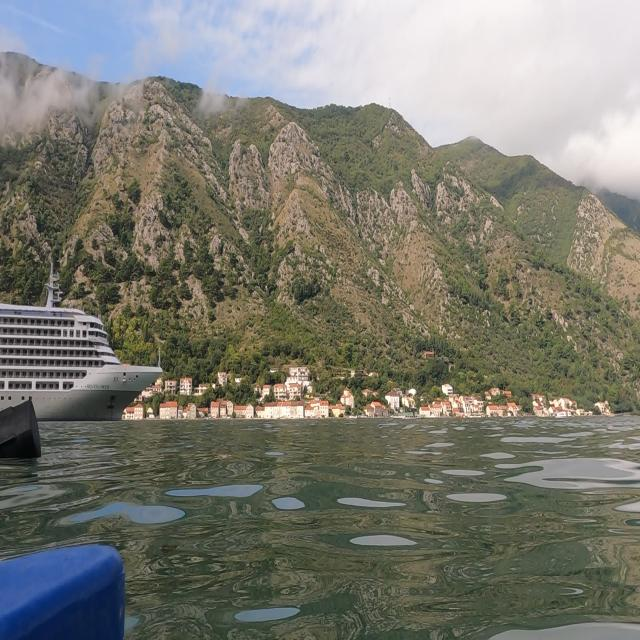boat: (2, 252, 165, 424)
buoy: (0, 396, 45, 466)
